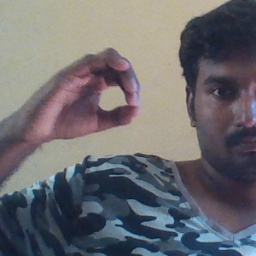O: (22, 45, 149, 144)
